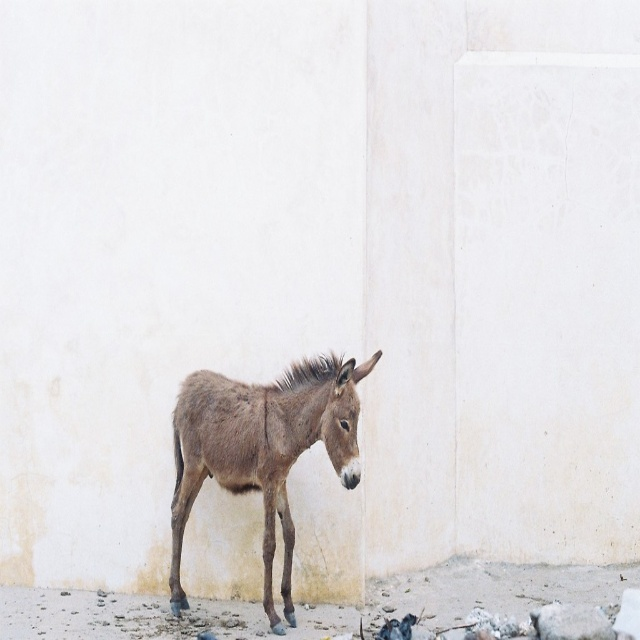Mule: (168, 340, 382, 638)
